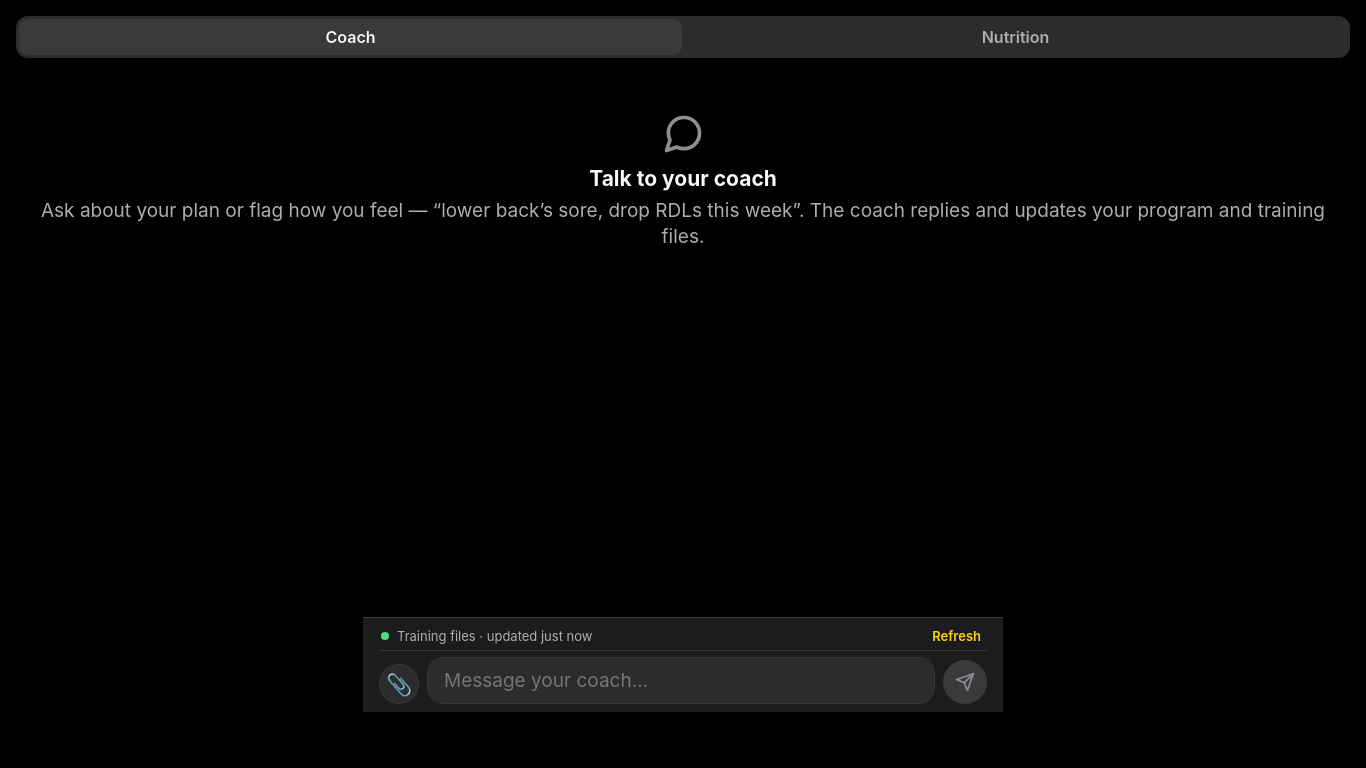
Test: CoachPane — interrupted reply › Retry re-sends the exact same message and does not duplicate it
Type "drop RDLs" into the text box with placeholder "Message your coach…" at [681, 680], box 427,657 -> 935,704
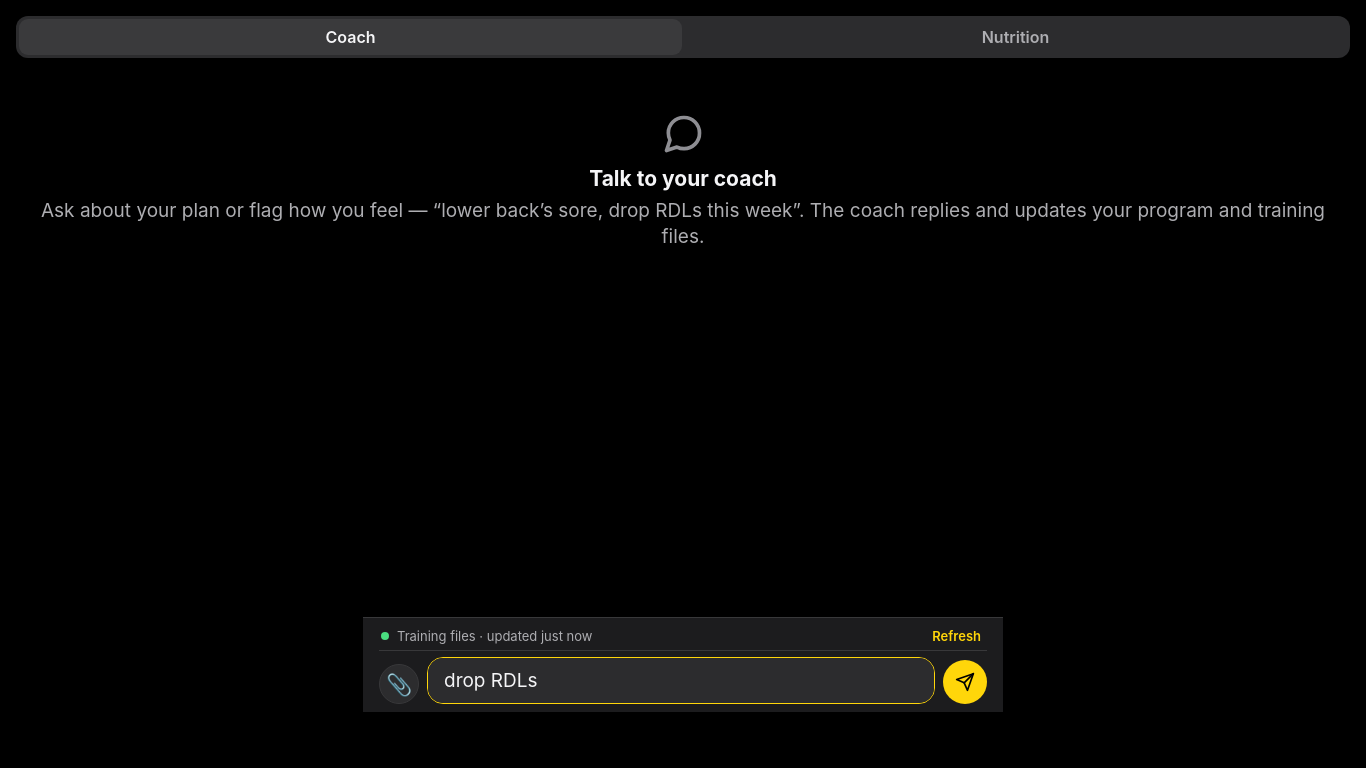
Click the button named "Send message" at [965, 682], box 943,660 -> 987,704
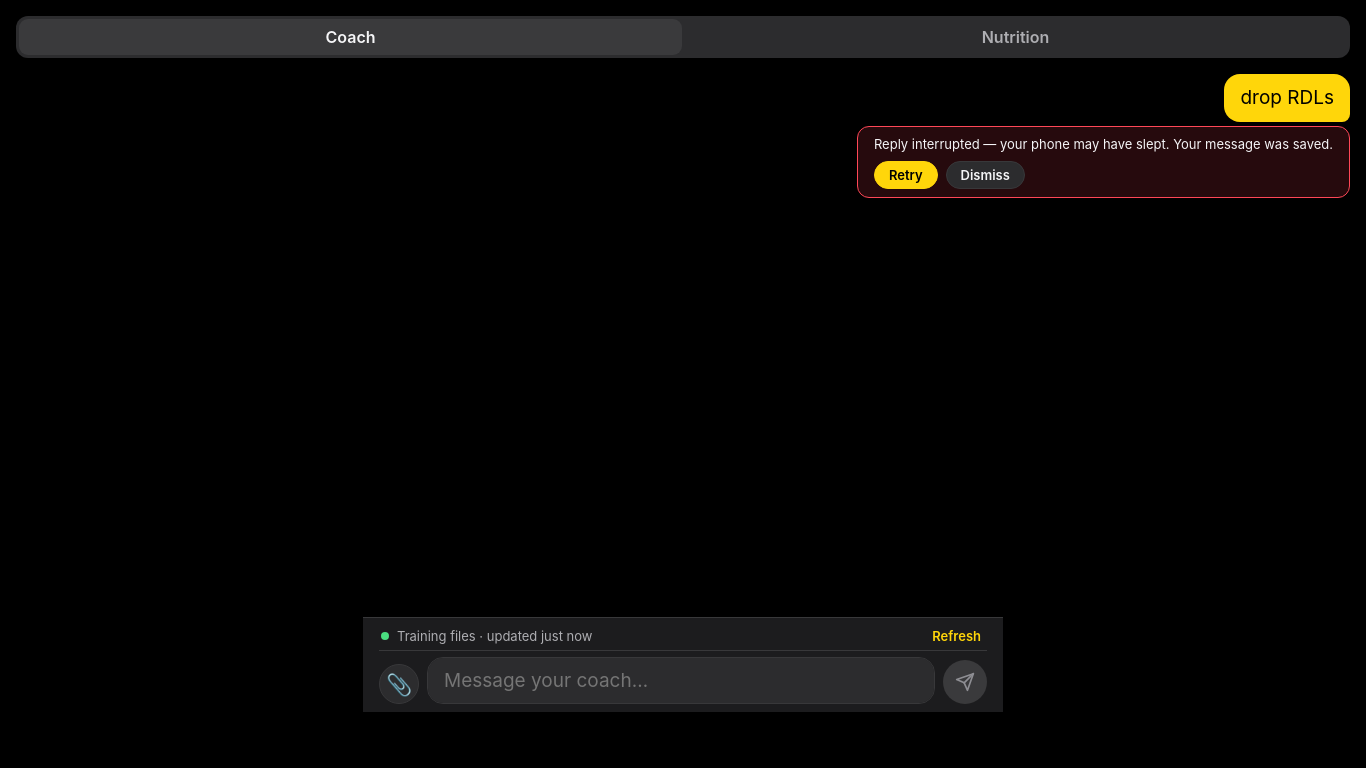
Expected: the text "Reply interrupted" is shown, 874,136 -> 1333,152
Click the button "Retry" at [906, 175], box 874,161 -> 938,189
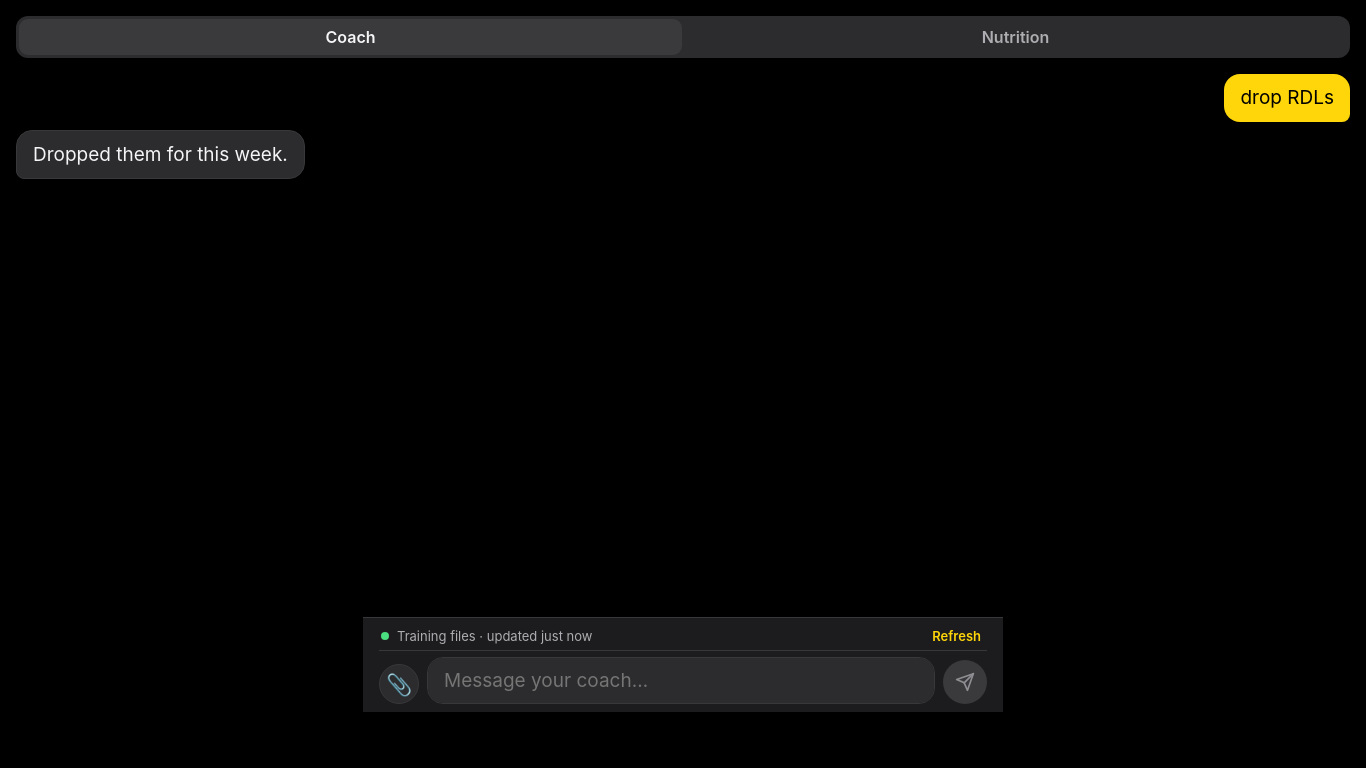
Expected: the text "Dropped them for this week." is shown, 33,140 -> 288,168
Expected: the text "drop RDLs" is shown once, 1224,74 -> 1350,122
Expected: the text "Reply interrupted" is gone
